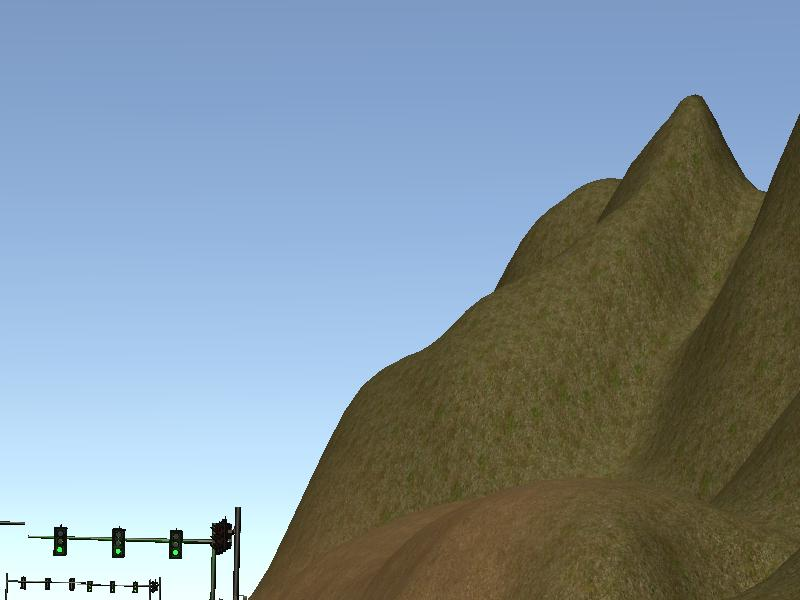Green: (111, 529, 125, 558), (169, 529, 182, 558), (54, 525, 66, 554)
